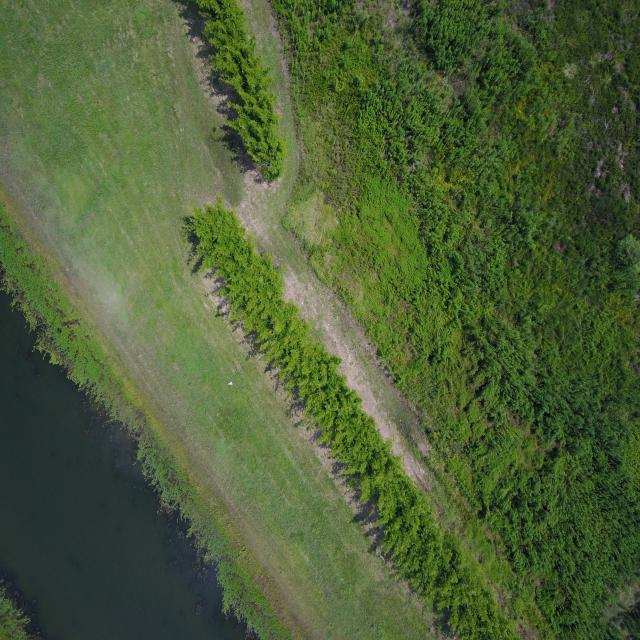fire: (0, 289, 251, 640)
